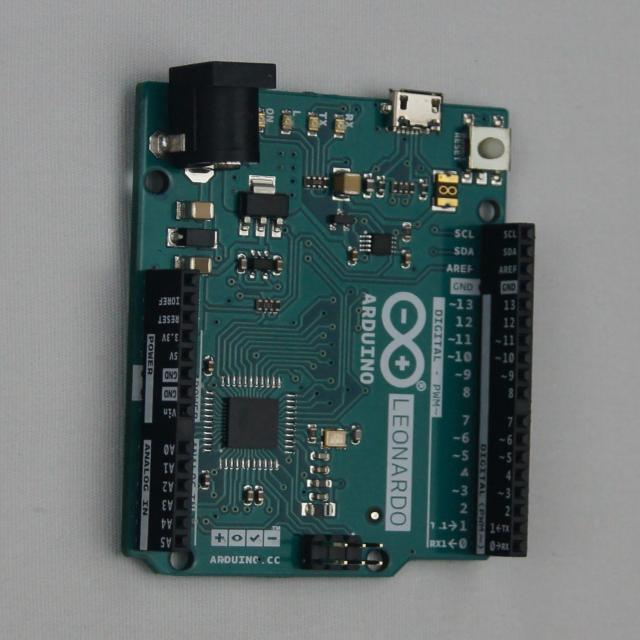Arduino-leonardo: (122, 63, 535, 577)
